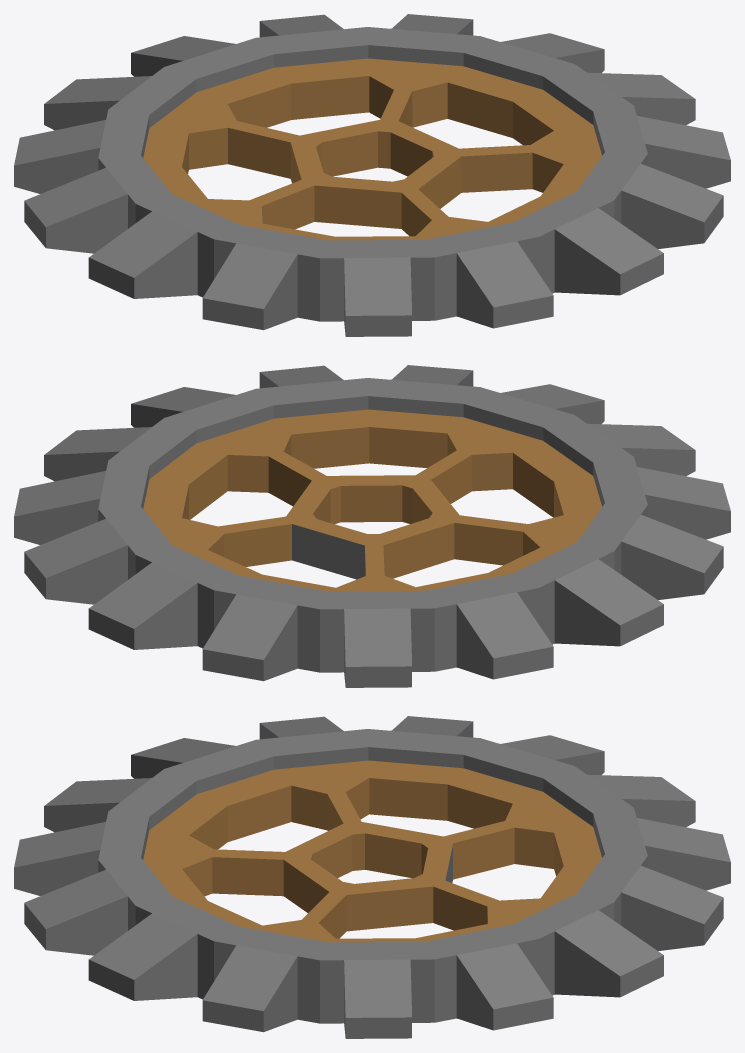
Rendered from Steampunk_1.fbx.
3 views of the same model, one above another, from view 1: azimuth 30°, elevation 25°; view 2: azimuth 150°, elevation 25°; view 3: azimuth 270°, elevation 25° (orthographic).
Parts seen in each view (by area): view 1: Circle.001; view 2: Circle.001; view 3: Circle.001.
Part boxes in pixels (<box>): Circle.001: <box>14,14,730,336</box>; Circle.001: <box>14,365,730,687</box>; Circle.001: <box>14,716,730,1038</box>.
Size of the model in its own units: 342 by 33.43 by 343.
